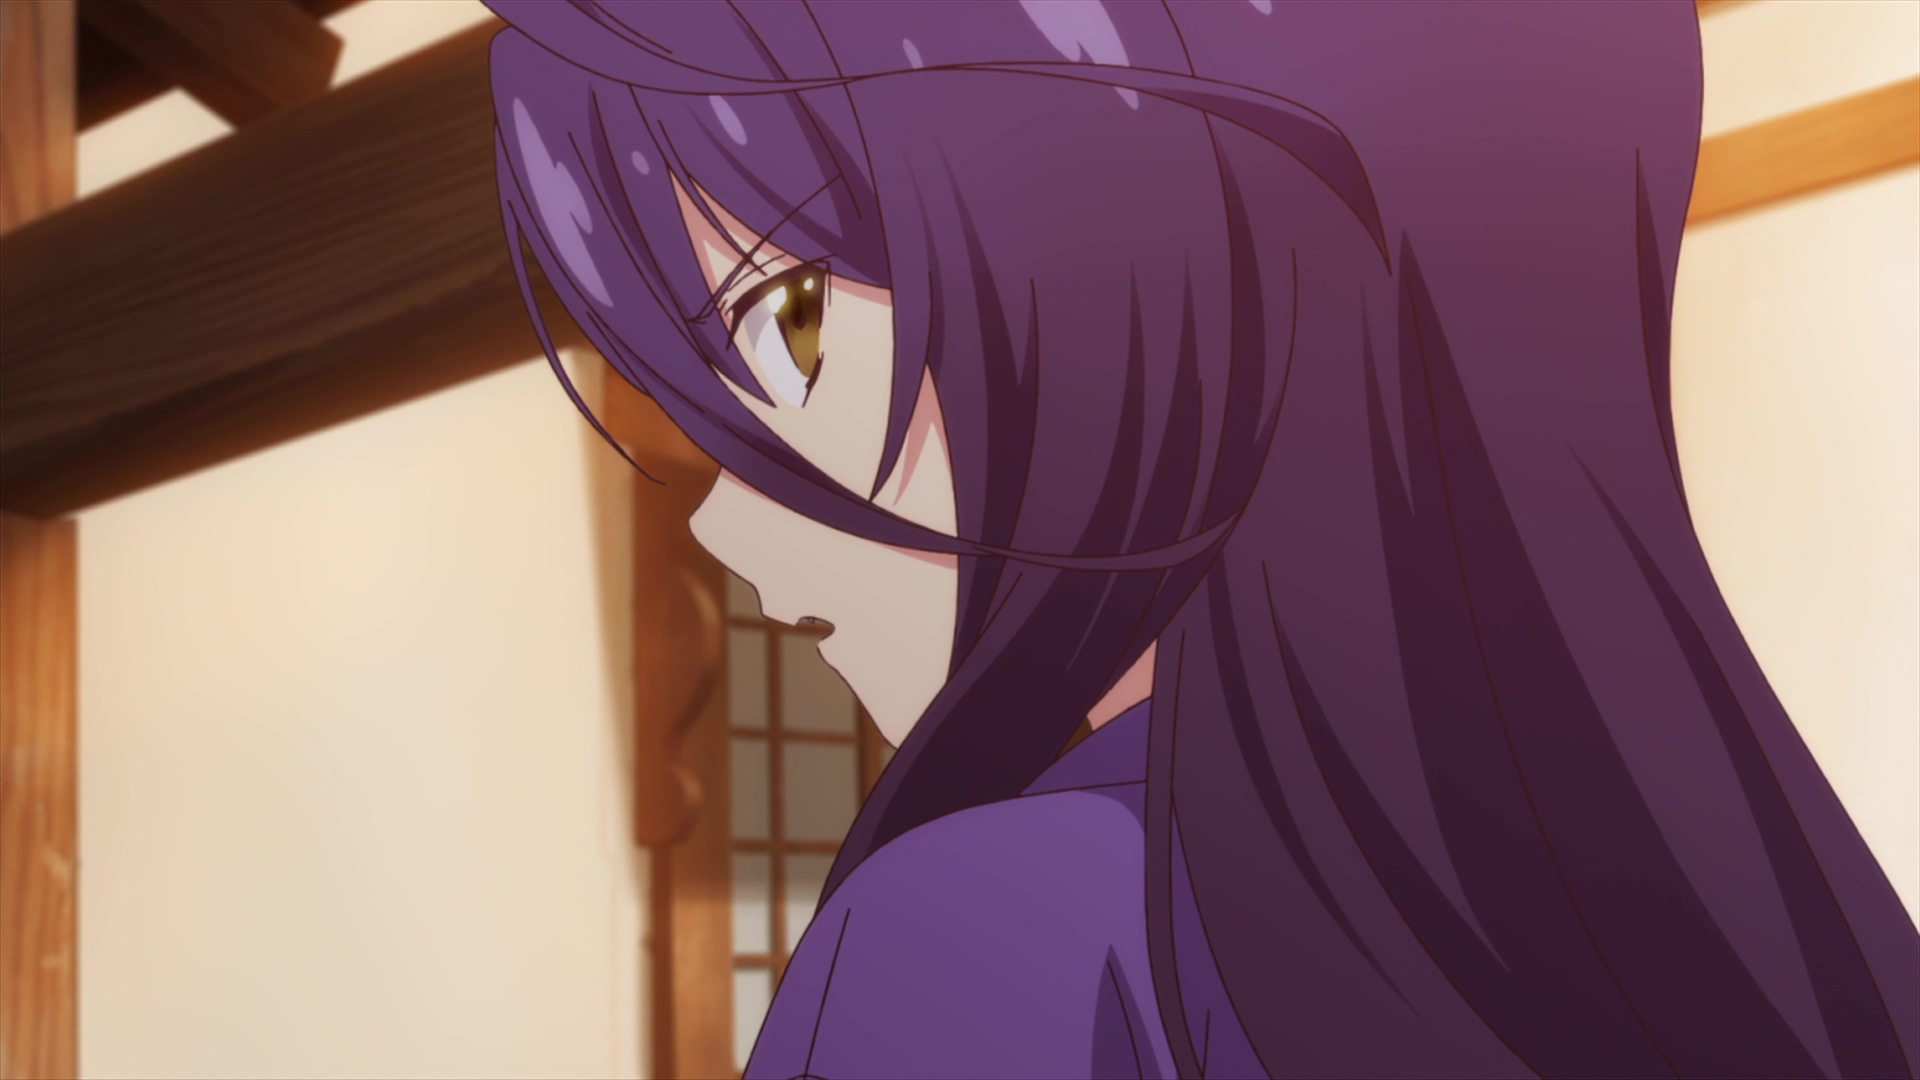皋: (483, 1, 1920, 1080)
